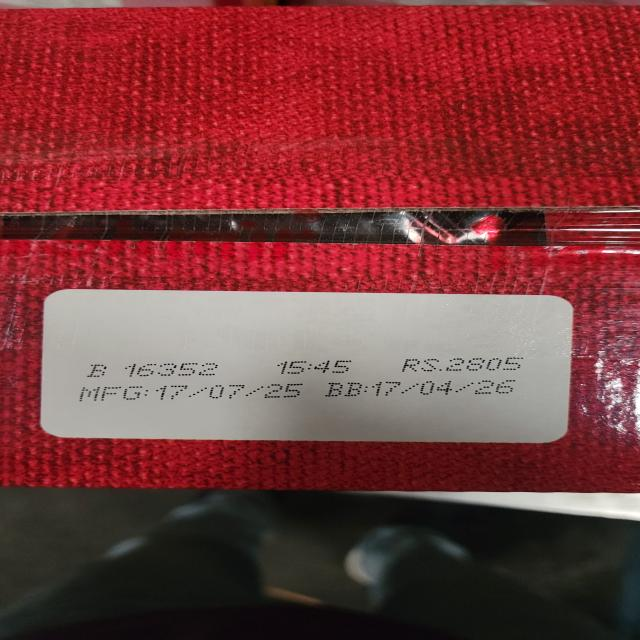BB: (326, 380, 522, 398)
Batch: (89, 362, 223, 377)
MFG: (82, 384, 301, 401)
RS: (400, 357, 527, 372)
TimeStamp: (277, 360, 354, 374)
